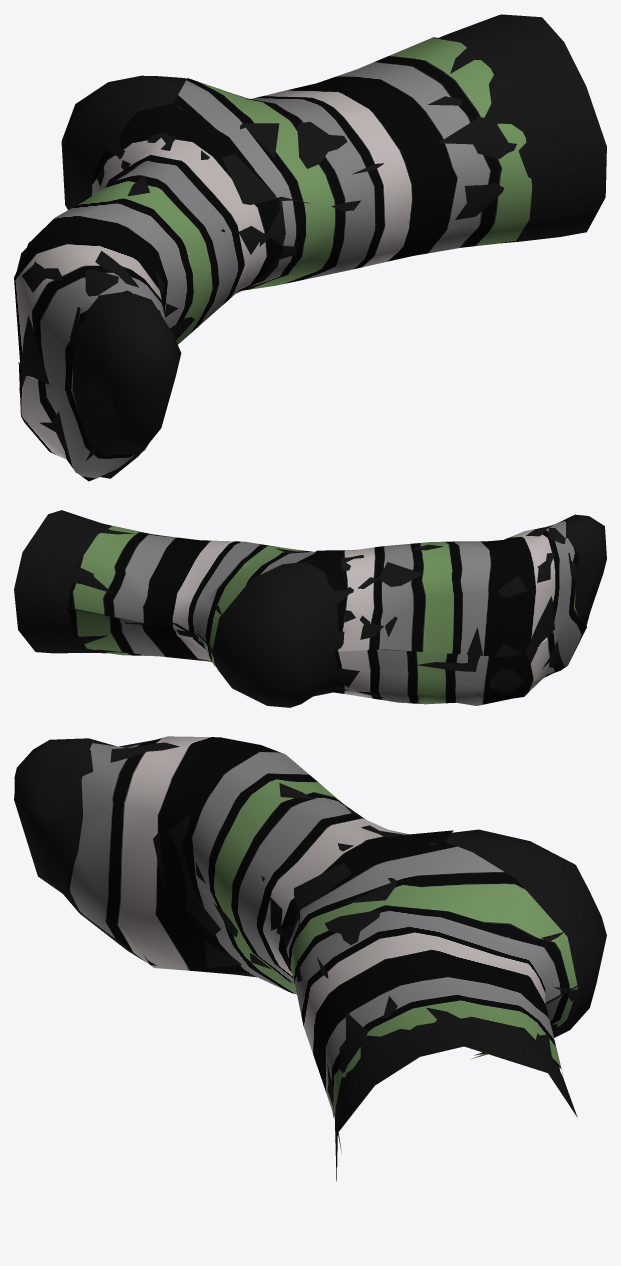
File: toy_sock_striped.glb
The picture shows the model from 3 angles, top to bottom: view 1: azimuth 30°, elevation 25°; view 2: azimuth 150°, elevation 25°; view 3: azimuth 270°, elevation 25°; orthographic projection. The views are drawn at different scales.
Parts seen in each view (by area): view 1: toy_sock_striped; view 2: toy_sock_striped; view 3: toy_sock_striped.
Part boxes in pixels (x1,y1,x2,y2): toy_sock_striped: (14,14,606,481); toy_sock_striped: (14,510,606,707); toy_sock_striped: (14,736,606,1181).
Size of the model in its own units: 7.01 by 2.39 by 5.44.
Materials: 9 (9 with a texture image).
